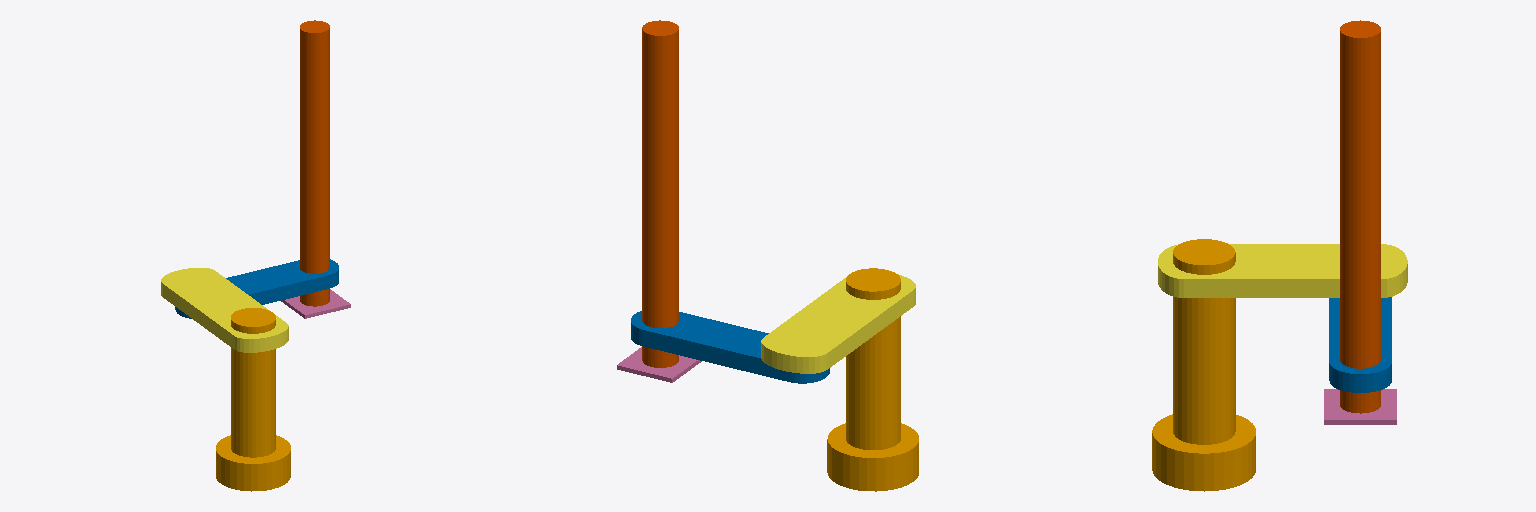
robot.urdf — brazo_scara:
<robot name="brazo_scara" version="1.0">
  <joint name="Finger1_link_joint" type="prismatic">
    <limit lower="-0.30000" upper="0.00000" effort="0.00000" velocity="0.00000"/>
    <origin rpy="-0.00000 1.57080 0.00000" xyz="-0.32000 0.00000 -0.20000"/>
    <parent link="Seg4_link"/>
    <child link="Finger1_link"/>
    <axis xyz="0.00000 0.00000 1.00000"/>
  </joint>
  <joint name="Finger2_link_joint" type="prismatic">
    <limit lower="-0.30000" upper="0.00000" effort="0.00000" velocity="0.00000"/>
    <origin rpy="0.00000 -1.57080 0.00000" xyz="0.32000 0.00000 -0.20000"/>
    <parent link="Seg4_link"/>
    <child link="Finger2_link"/>
    <axis xyz="0.00000 0.00000 1.00000"/>
  </joint>
  <joint name="Seg1_link_joint" type="revolute">
    <limit lower="-3.00000" upper="3.00000" effort="0.00000" velocity="0.00000"/>
    <origin rpy="0.00000 0.00000 0.00000" xyz="0.00000 -0.00000 1.26129"/>
    <parent link="Base_link"/>
    <child link="Seg1_link"/>
    <axis xyz="0.00000 0.00000 1.00000"/>
  </joint>
  <joint name="Seg2_link_joint" type="revolute">
    <limit lower="-0.78540" upper="3.92239" effort="0.00000" velocity="0.00000"/>
    <origin rpy="0.00000 0.00000 0.00000" xyz="-0.00000 1.50000 -0.17250"/>
    <parent link="Seg1_link"/>
    <child link="Seg2_link"/>
    <axis xyz="0.00000 0.00000 1.00000"/>
  </joint>
  <joint name="Seg3_link_joint" type="prismatic">
    <limit lower="-3.25000" upper="0.25000" effort="0.00000" velocity="0.00000"/>
    <origin rpy="0.00000 0.00000 0.00000" xyz="1.80000 0.00000 1.57250"/>
    <parent link="Seg2_link"/>
    <child link="Seg3_link"/>
    <axis xyz="0.00000 0.00000 1.00000"/>
  </joint>
  <joint name="Seg4_link_joint" type="revolute">
    <limit lower="-2.90000" upper="2.90000" effort="0.00000" velocity="0.00000"/>
    <origin rpy="0.00000 0.00000 0.00000" xyz="0.00000 0.00000 -2.00000"/>
    <parent link="Seg3_link"/>
    <child link="Seg4_link"/>
    <axis xyz="0.00000 0.00000 1.00000"/>
  </joint>
  <link name="Base_link">
    <visual name="Base">
      <origin rpy="0.00000 0.00000 0.00000" xyz="0.00000 -0.00000 -0.00000"/>
      <geometry>
        <mesh filename="../meshes/stl/Cilindro.stl" scale="0.50000 0.50000 0.06000"/>
      </geometry>
    </visual>
  </link>
  <link name="Finger1_link">
    <visual name="Finger2">
      <origin rpy="0.00000 -1.57080 0.00000" xyz="-0.00000 0.00000 0.64000"/>
      <geometry>
        <mesh filename="../meshes/stl/Cubo.004.stl" scale="0.02500 0.35000 0.17500"/>
      </geometry>
    </visual>
  </link>
  <link name="Finger2_link">
    <visual name="Finger1">
      <origin rpy="-0.00000 1.57080 0.00000" xyz="0.00000 0.00000 0.64000"/>
      <geometry>
        <mesh filename="../meshes/stl/Cubo.003.stl" scale="0.02500 0.35000 0.17500"/>
      </geometry>
    </visual>
  </link>
  <link name="Seg1_link">
    <visual name="Link1">
      <origin rpy="0.00000 0.00000 0.00000" xyz="0.00000 0.75263 0.00000"/>
      <geometry>
        <mesh filename="../meshes/stl/Cilindro.004.stl" scale="0.40000 0.25263 0.10000"/>
      </geometry>
    </visual>
  </link>
  <link name="Seg2_link">
    <visual name="Link2">
      <origin rpy="0.00000 0.00000 0.00000" xyz="0.79998 0.00000 0.00000"/>
      <geometry>
        <mesh filename="../meshes/stl/Cilindro.006.stl" scale="0.27692 0.30000 0.10000"/>
      </geometry>
    </visual>
  </link>
  <link name="Seg3_link">
    <visual name="Link3">
      <origin rpy="0.00000 0.00000 0.00000" xyz="0.00000 0.00000 0.00000"/>
      <geometry>
        <mesh filename="../meshes/stl/Cilindro.007.stl" scale="0.20000 0.20000 2.00000"/>
      </geometry>
    </visual>
  </link>
  <link name="Seg4_link">
    <visual name="Link4">
      <origin rpy="0.00000 0.00000 0.00000" xyz="0.00000 0.00000 0.00000"/>
      <geometry>
        <mesh filename="../meshes/stl/Cubo.002.stl" scale="0.35000 0.35000 0.02500"/>
      </geometry>
    </visual>
  </link>
</robot>

--- Facts derived from the render (not from the file) ---
The picture shows the robot from 3 angles, left to right: view 1: azimuth 30°, elevation 25°; view 2: azimuth 150°, elevation 25°; view 3: azimuth 270°, elevation 25°; orthographic projection.
Model brazo_scara with 7 links and 6 joints (3 revolute, 3 prismatic), rooted at Base_link, posed all joints at 0.
Visible links, largest first — view 1: Base_link, Seg3_link, Seg1_link, Seg2_link, Seg4_link; view 2: Base_link, Seg3_link, Seg1_link, Seg2_link, Seg4_link; view 3: Base_link, Seg3_link, Seg1_link, Seg2_link, Seg4_link.
Boxes of the visible links, bbox=[...] form: Base_link: bbox=[216, 308, 290, 491]; Seg3_link: bbox=[300, 20, 329, 306]; Seg1_link: bbox=[161, 268, 288, 352]; Seg2_link: bbox=[175, 259, 338, 318]; Seg4_link: bbox=[281, 289, 350, 318]; Base_link: bbox=[827, 268, 918, 491]; Seg3_link: bbox=[642, 20, 678, 367]; Seg1_link: bbox=[761, 274, 915, 373]; Seg2_link: bbox=[631, 311, 829, 383]; Seg4_link: bbox=[617, 347, 701, 382]; Base_link: bbox=[1152, 239, 1255, 491]; Seg3_link: bbox=[1340, 20, 1380, 413]; Seg1_link: bbox=[1158, 244, 1407, 297]; Seg2_link: bbox=[1329, 297, 1391, 392]; Seg4_link: bbox=[1324, 389, 1396, 424].
Bounding box of the posed robot: 2.65 × 2.45 × 5.5 m (x, y, z).
5 mesh visuals loaded from 7 distinct referenced files (5 binary STL); not drawn: 2 (reference not matched to a file when rendering).